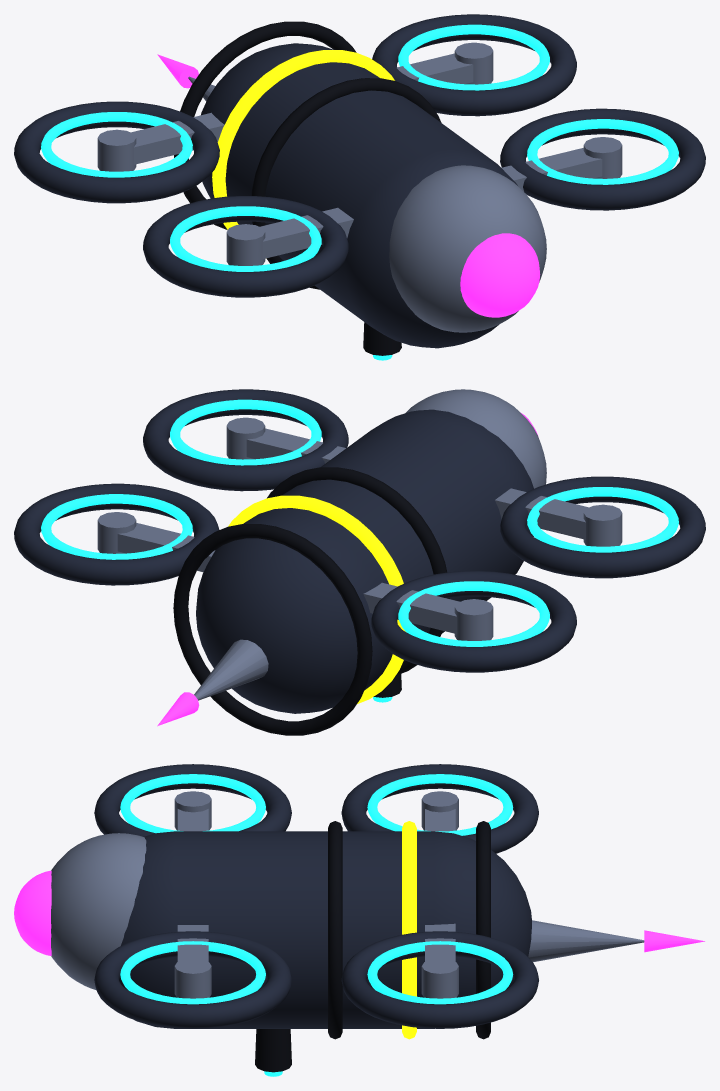
Rendered from ennemi-drone.glb.
3 views of the same model, one above another, from view 1: azimuth 30°, elevation 25°; view 2: azimuth 150°, elevation 25°; view 3: azimuth 270°, elevation 25° (orthographic). The views are drawn at different scales.
Visible parts, largest first — view 1: fuselage, cockpit, rotor_anneau_3, rotor_anneau_1, rotor_anneau_0, rotor_anneau_2, oeil, bande_1, bande_0, bande_2, rotor_neon_2, rotor_neon_0 (+12 smaller); view 2: fuselage, rotor_anneau_1, rotor_anneau_3, bande_2, rotor_anneau_2, rotor_anneau_0, cockpit, bande_1, bande_0, rotor_neon_0, rotor_neon_2, rotor_neon_3 (+11 smaller); view 3: fuselage, cockpit, rotor_anneau_0, rotor_anneau_2, rotor_anneau_3, rotor_anneau_1, bande_0, rotor_neon_0, rotor_neon_2, dard, rotor_neon_1, oeil (+13 smaller).
Part boxes in pixels (bbox=[...]): fuselage: bbox=[201, 43, 517, 348]; cockpit: bbox=[389, 165, 546, 332]; rotor_anneau_3: bbox=[14, 101, 219, 203]; rotor_anneau_1: bbox=[143, 196, 348, 297]; rotor_anneau_0: bbox=[500, 108, 705, 210]; rotor_anneau_2: bbox=[372, 14, 576, 116]; oeil: bbox=[460, 233, 540, 317]; bande_1: bbox=[212, 50, 394, 229]; bande_0: bbox=[251, 78, 441, 289]; bande_2: bbox=[174, 21, 356, 229]; rotor_neon_2: bbox=[398, 24, 549, 90]; rotor_neon_0: bbox=[527, 119, 678, 184]; fuselage: bbox=[196, 409, 533, 713]; rotor_anneau_1: bbox=[500, 476, 705, 578]; rotor_anneau_3: bbox=[371, 571, 576, 672]; bande_2: bbox=[173, 524, 372, 735]; rotor_anneau_2: bbox=[14, 483, 219, 585]; rotor_anneau_0: bbox=[143, 389, 348, 491]; cockpit: bbox=[406, 389, 546, 488]; bande_1: bbox=[228, 495, 405, 703]; bande_0: bbox=[267, 467, 449, 675]; rotor_neon_0: bbox=[170, 399, 321, 465]; rotor_neon_2: bbox=[41, 494, 192, 559]; rotor_neon_3: bbox=[398, 581, 549, 646]; fuselage: bbox=[119, 831, 531, 1028]; cockpit: bbox=[51, 833, 146, 990]; rotor_anneau_0: bbox=[94, 931, 291, 1028]; rotor_anneau_2: bbox=[341, 931, 538, 1028]; rotor_anneau_3: bbox=[341, 764, 538, 853]; rotor_anneau_1: bbox=[94, 764, 291, 836]; bande_0: bbox=[328, 821, 342, 1039]; rotor_neon_0: bbox=[120, 941, 265, 1004]; rotor_neon_2: bbox=[367, 941, 513, 1004]; dard: bbox=[528, 920, 644, 962]; rotor_neon_1: bbox=[120, 774, 265, 833]; oeil: bbox=[14, 870, 51, 955].
Bounding box in the file's own units: 0.96 × 0.432 × 1.12.
